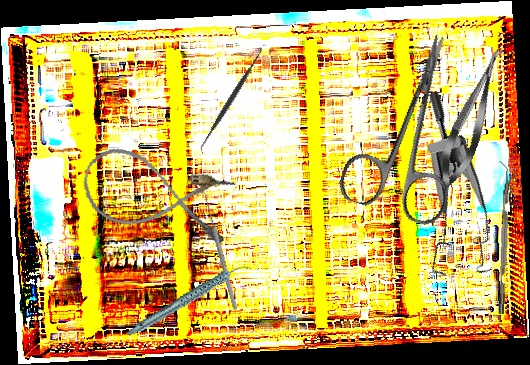Cannula: (74, 141, 240, 251)
Chopper: (491, 160, 512, 315)
Handpiece: (118, 262, 260, 337)
Hook Surgical: (196, 189, 240, 312)
Iris Scissors: (335, 20, 495, 230)
Micro Scissor: (431, 42, 514, 192)
Spatula Surgical: (192, 44, 270, 156)
Speculum: (358, 89, 526, 295)
